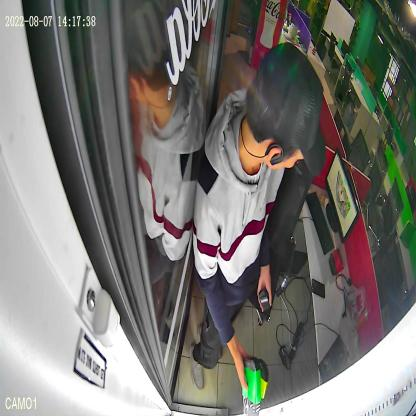green: (242, 356, 262, 416)
yellow: (257, 358, 269, 401)
